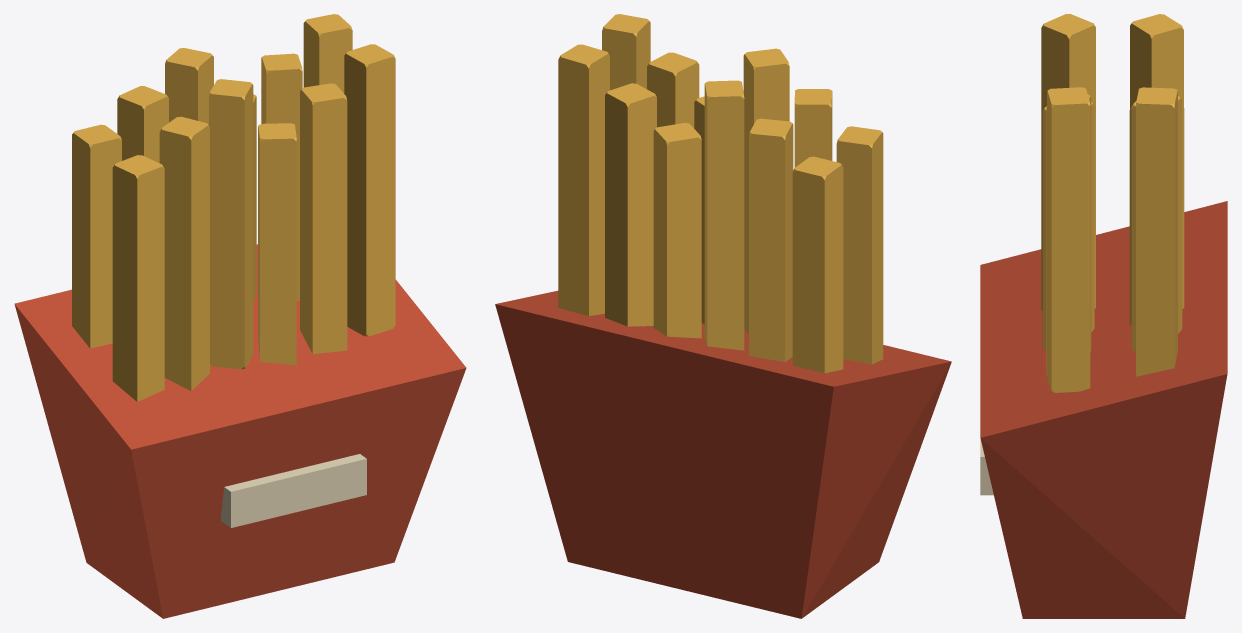
Rendered from Fries_Carton.glb.
The picture shows the model from 3 angles, left to right: view 1: azimuth 30°, elevation 25°; view 2: azimuth 150°, elevation 25°; view 3: azimuth 270°, elevation 25°; orthographic projection. The views are drawn at different scales.
Visible parts, largest first — view 1: Fries_Carton; view 2: Fries_Carton; view 3: Fries_Carton.
Part boxes in pixels (<box>): Fries_Carton: <box>14,14,466,618</box>; Fries_Carton: <box>495,14,951,618</box>; Fries_Carton: <box>980,14,1227,618</box>.
Bounding box in the file's own units: 0.116 × 0.163 × 0.07.
